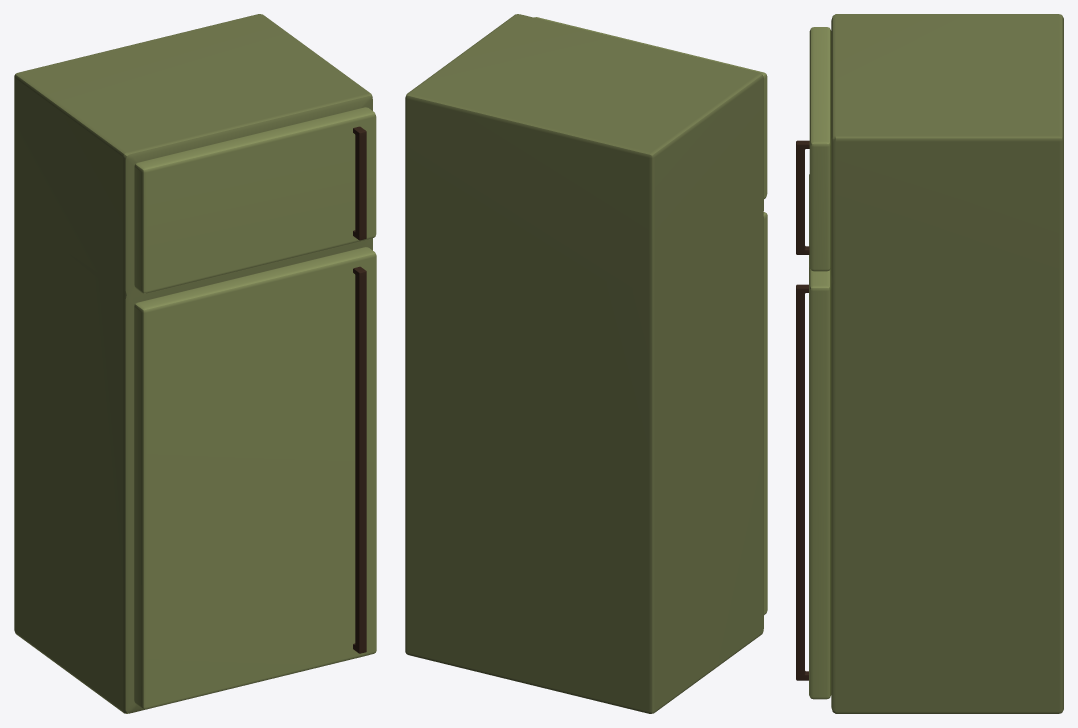
The model's file is Fridge_80s_v1.fbx.
The picture shows the model from 3 angles, left to right: view 1: azimuth 30°, elevation 25°; view 2: azimuth 150°, elevation 25°; view 3: azimuth 270°, elevation 25°; orthographic projection. The views are drawn at different scales.
Visible parts, largest first — view 1: U_MainFridge_80s, M_FridgeDoor_Bottom_Body_80s, M_FridgeDoor_Top_Body_80s, M_FridgeDoor_Bottom_Handle_80s, M_FridgeDoor_Top_Handle_80s; view 2: U_MainFridge_80s, M_FridgeDoor_Bottom_Body_80s, M_FridgeDoor_Top_Body_80s; view 3: U_MainFridge_80s, M_FridgeDoor_Bottom_Body_80s, M_FridgeDoor_Top_Body_80s, M_FridgeDoor_Bottom_Handle_80s, M_FridgeDoor_Top_Handle_80s.
Part boxes in pixels (x1,y1,x2,y2): U_MainFridge_80s: (14, 14, 372, 713); M_FridgeDoor_Bottom_Body_80s: (134, 247, 376, 709); M_FridgeDoor_Top_Body_80s: (134, 107, 376, 293); M_FridgeDoor_Bottom_Handle_80s: (353, 266, 366, 653); M_FridgeDoor_Top_Handle_80s: (353, 126, 366, 240); U_MainFridge_80s: (405, 14, 763, 713); M_FridgeDoor_Bottom_Body_80s: (763, 212, 767, 614); M_FridgeDoor_Top_Body_80s: (534, 17, 767, 198); U_MainFridge_80s: (831, 14, 1063, 713); M_FridgeDoor_Bottom_Body_80s: (809, 174, 831, 699); M_FridgeDoor_Top_Body_80s: (809, 27, 831, 271); M_FridgeDoor_Bottom_Handle_80s: (796, 284, 808, 680); M_FridgeDoor_Top_Handle_80s: (796, 140, 809, 254).
Size of the model in its own units: 2.41 by 5.2 by 2.18.
